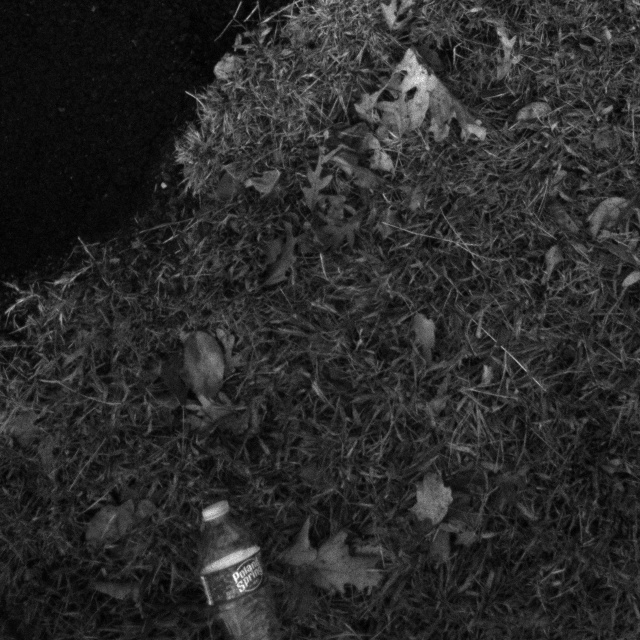bottle: (180, 489, 313, 640)
